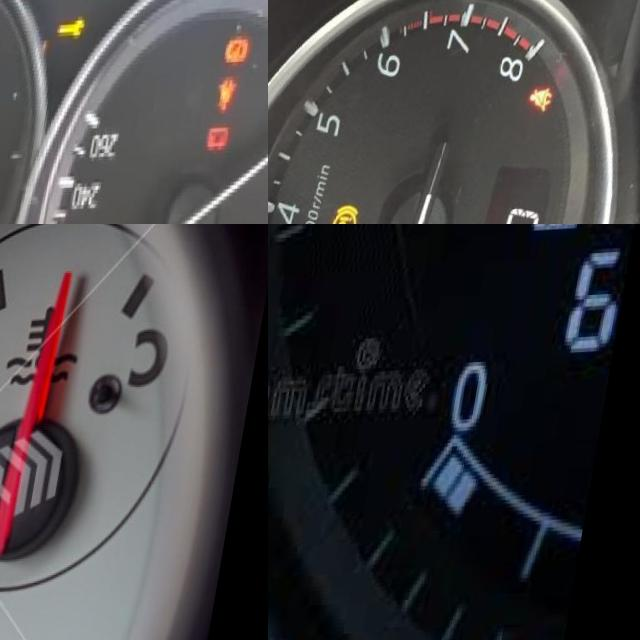Seat Belt: (221, 83, 245, 117), (537, 92, 567, 116)
